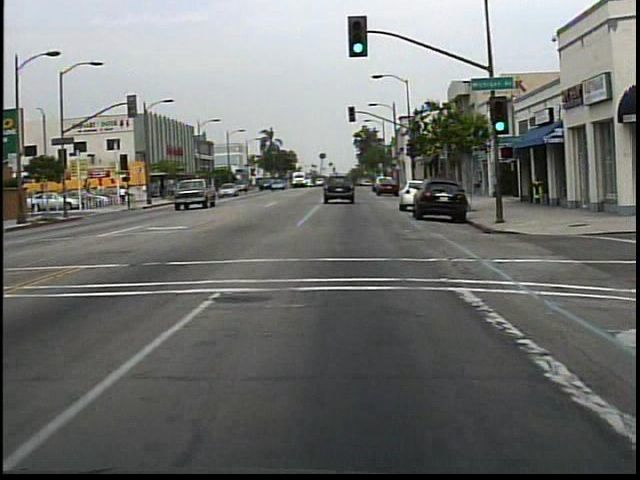person: (119, 183, 128, 208)
